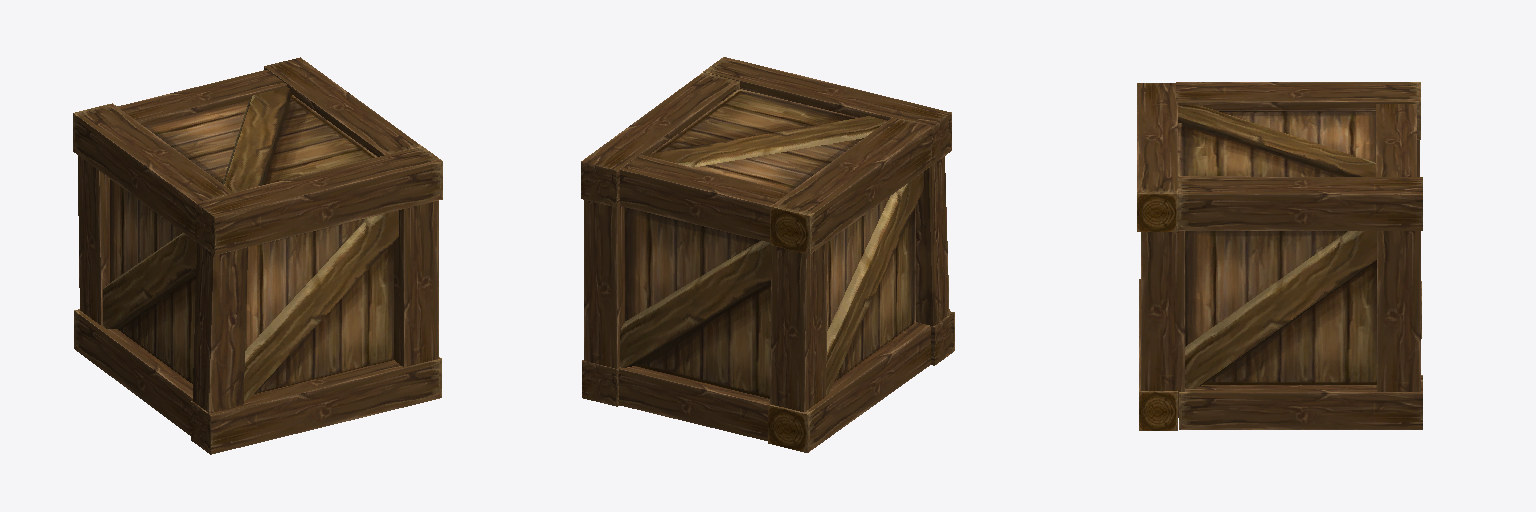
The picture shows the model from 3 angles: view 1: azimuth 30°, elevation 25°; view 2: azimuth 150°, elevation 25°; view 3: azimuth 270°, elevation 25°; orthographic projection.
Parts seen in each view (by area): view 1: stormwindcrate01.m2; view 2: stormwindcrate01.m2; view 3: stormwindcrate01.m2.
Part boxes in pixels (x1,y1,x2,y2): stormwindcrate01.m2: (73, 57, 442, 454); stormwindcrate01.m2: (581, 57, 954, 452); stormwindcrate01.m2: (1137, 82, 1422, 430).
Bounding box in the file's own units: 1.27 × 1.24 × 1.35.
Materials: 1 (1 with a texture image).